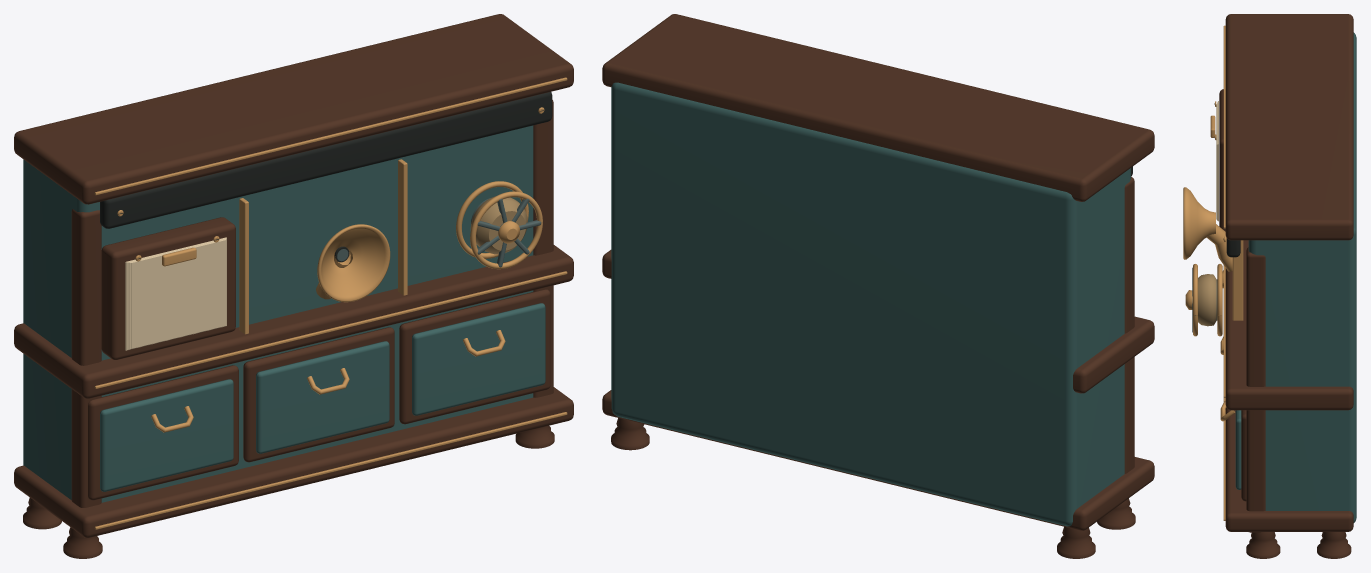
Rendered from relay.glb.
3 views of the same model, side by side, from view 1: azimuth 30°, elevation 25°; view 2: azimuth 150°, elevation 25°; view 3: azimuth 270°, elevation 25° (orthographic). The views are drawn at different scales.
Visible parts, largest first — view 1: Carcass, Projecting moulded rail.002, Projecting moulded rail.001, Projecting moulded rail, Cast header plate, Fielded walnut panel, Fielded walnut panel.001, Fielded walnut panel.002, Deckled folio leaf.004, Dovetailed document tray, Ebonised stile, Recessed door panel.001 (+15 smaller); view 2: Carcass, Projecting moulded rail.002, Projecting moulded rail, Ebonised stile, Projecting moulded rail.001, Turned pilaster foot.001, Turned pilaster foot.003, Turned pilaster foot; view 3: Projecting moulded rail.002, Carcass, Projecting moulded rail.001, Ebonised stile.001, Projecting moulded rail, Spun trumpet with inner wall, Cord wound around hub, Station divider.001, Turned pilaster foot.002, Turned pilaster foot.003, Dovetailed document tray, Beaded brass inlay.002 (+8 smaller).
Part boxes in pixels (x1,y1,x2,y2): Carcass: (23, 125, 533, 502); Projecting moulded rail.002: (14, 14, 573, 204); Projecting moulded rail.001: (14, 245, 573, 398); Projecting moulded rail: (14, 387, 573, 537); Cast header plate: (100, 92, 552, 228); Fielded walnut panel: (100, 379, 233, 491); Fielded walnut panel.001: (256, 341, 389, 453); Fielded walnut panel.002: (412, 303, 545, 415); Deckled folio leaf.004: (131, 239, 226, 348); Dovetailed document tray: (101, 217, 235, 359); Ebonised stile: (71, 209, 101, 507); Recessed door panel.001: (243, 327, 394, 462); Carcass: (611, 82, 1130, 526); Projecting moulded rail.002: (602, 14, 1154, 201); Projecting moulded rail: (602, 390, 1154, 530); Ebonised stile: (1124, 177, 1134, 473); Projecting moulded rail.001: (602, 250, 1154, 393); Turned pilaster foot.001: (1057, 526, 1095, 558); Turned pilaster foot.003: (611, 418, 649, 450); Turned pilaster foot: (1097, 498, 1135, 529); Projecting moulded rail.002: (1225, 14, 1353, 240); Carcass: (1248, 32, 1356, 522); Projecting moulded rail.001: (1225, 240, 1353, 410); Ebonised stile.001: (1246, 247, 1265, 532); Projecting moulded rail: (1225, 408, 1353, 531); Spun trumpet with inner wall: (1183, 187, 1215, 259); Cord wound around hub: (1198, 274, 1216, 326); Station divider.001: (1232, 240, 1243, 320); Turned pilaster foot.002: (1246, 532, 1280, 558); Turned pilaster foot.003: (1317, 532, 1351, 558); Dovetailed document tray: (1219, 89, 1225, 231); Beaded brass inlay.002: (1223, 25, 1225, 228).
Size of the model in its own units: 2.52 by 1.9 by 0.882.
